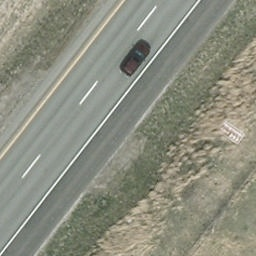car: (116, 40, 153, 80)
